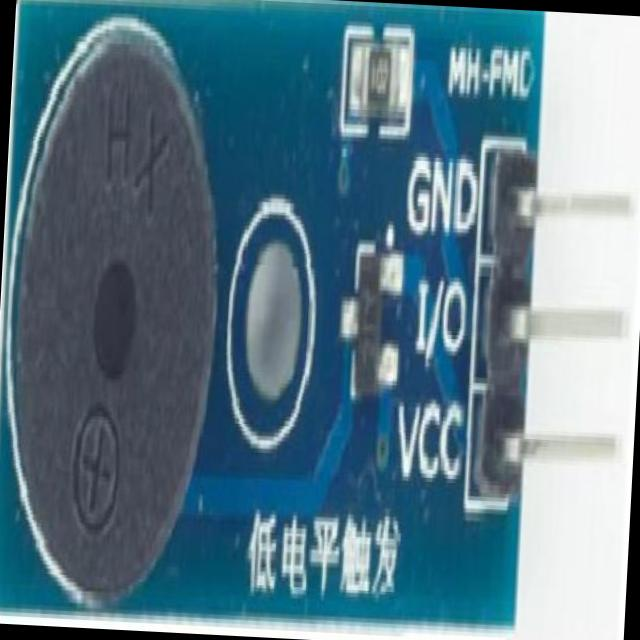connector: (470, 149, 636, 510)
resistor: (351, 38, 405, 122)
transistor: (348, 252, 398, 405)
